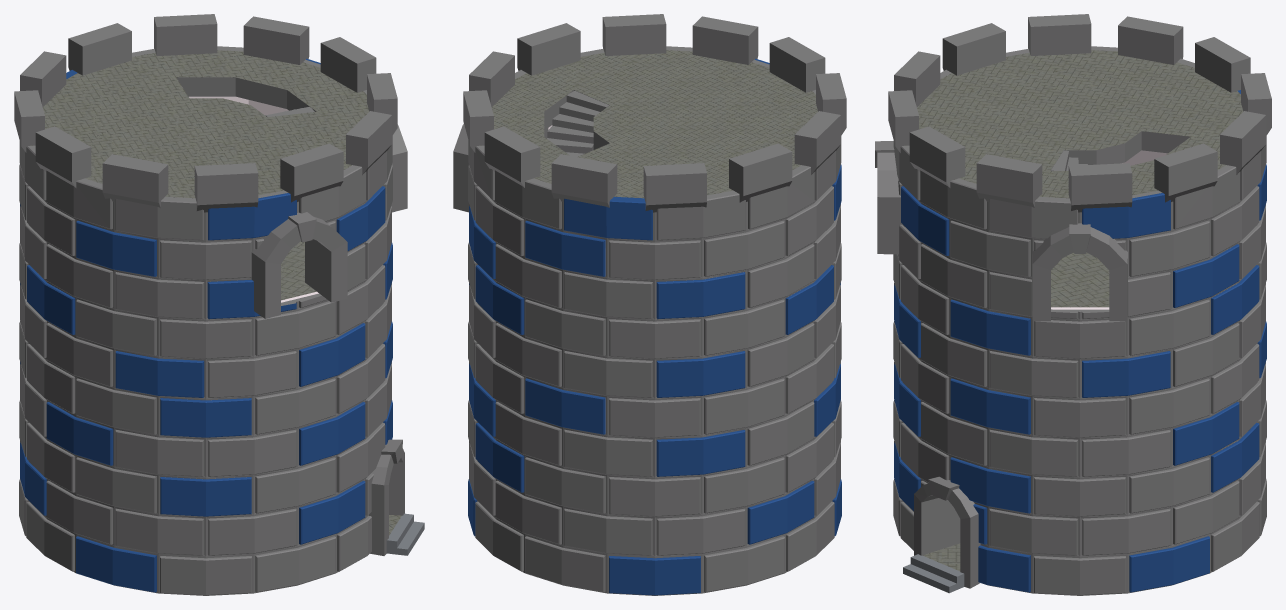
The picture shows the model from 3 angles, left to right: view 1: azimuth 30°, elevation 25°; view 2: azimuth 150°, elevation 25°; view 3: azimuth 270°, elevation 25°; orthographic projection.
Parts seen in each view (by area): view 1: Turret.FrontRight.Primary, Turret.FrontRight.Secondary, Turret.FrontRight.Floors, Turret.FrontRight.Floors2, Turret.FrontRight.Steps, Turret.FrontRight.InnerWall; view 2: Turret.FrontRight.Primary, Turret.FrontRight.Secondary, Turret.FrontRight.Floors, Turret.FrontRight.Stairs, Turret.FrontRight.Floors2; view 3: Turret.FrontRight.Primary, Turret.FrontRight.Secondary, Turret.FrontRight.Floors, Turret.FrontRight.Floors2, Turret.FrontRight.Steps, Turret.FrontRight.InnerWall.
Part boxes in pixels (box(x1,y1,x2,y2)): Turret.FrontRight.Primary: box(14, 14, 407, 595); Turret.FrontRight.Secondary: box(20, 58, 392, 592); Turret.FrontRight.Floors: box(31, 50, 401, 535); Turret.FrontRight.Floors2: box(176, 77, 321, 305); Turret.FrontRight.Steps: box(386, 513, 424, 555); Turret.FrontRight.InnerWall: box(189, 96, 318, 302); Turret.FrontRight.Primary: box(453, 14, 846, 595); Turret.FrontRight.Secondary: box(468, 58, 841, 595); Turret.FrontRight.Floors: box(480, 50, 817, 237); Turret.FrontRight.Stairs: box(547, 91, 609, 156); Turret.FrontRight.Floors2: box(544, 90, 609, 149); Turret.FrontRight.Primary: box(875, 14, 1271, 595); Turret.FrontRight.Secondary: box(894, 90, 1266, 592); Turret.FrontRight.Floors: box(905, 50, 1243, 571); Turret.FrontRight.Floors2: box(1050, 131, 1190, 312); Turret.FrontRight.Steps: box(903, 554, 964, 593); Turret.FrontRight.InnerWall: box(1051, 150, 1167, 309).
Bounding box in the file's own units: 2.18 × 2.55 × 2.16.
4 materials, 3 textured.
